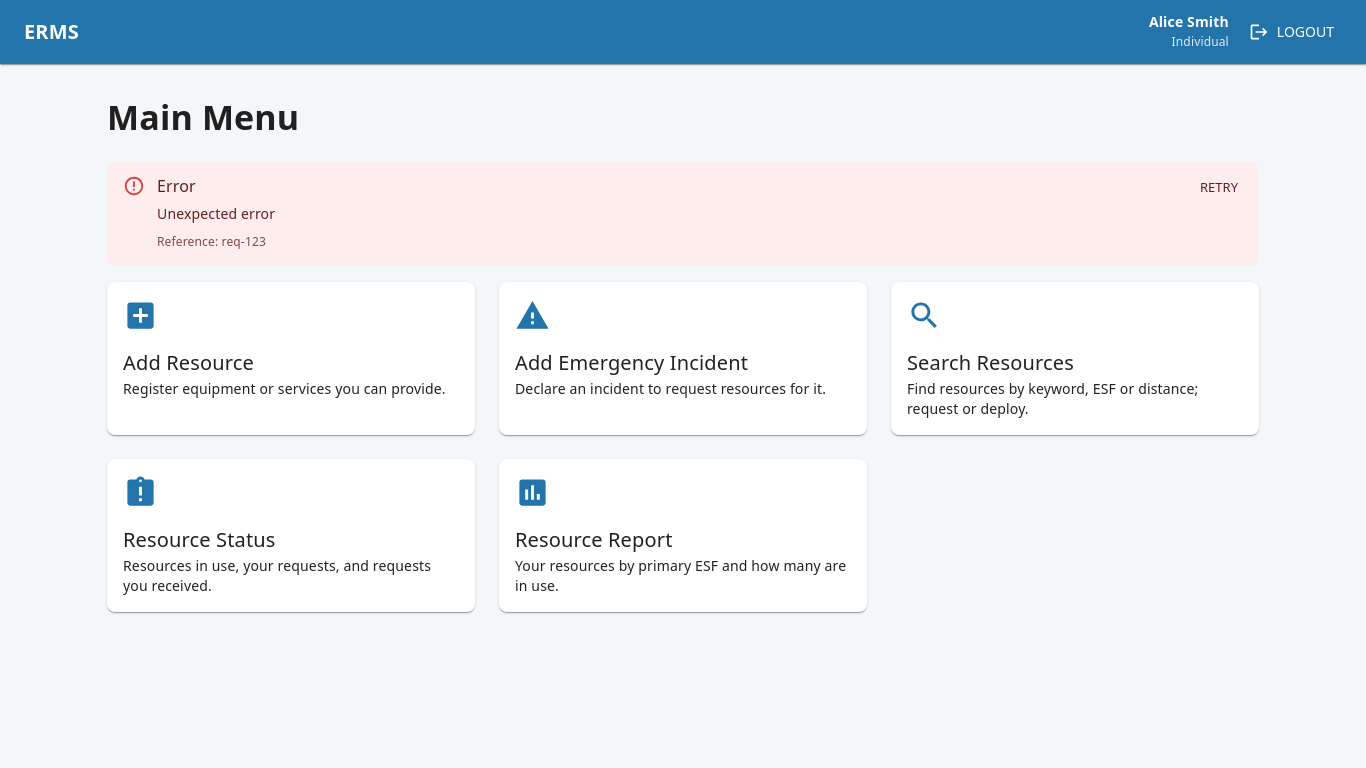
Test: MainMenuPage › shows an error with retry when the profile cannot be loaded
Expected: the message shows "Unexpected error", x1=157 y1=204 x2=275 y2=223
Click the button "Retry" at [1219, 187], box x1=1187 y1=172 x2=1251 y2=203
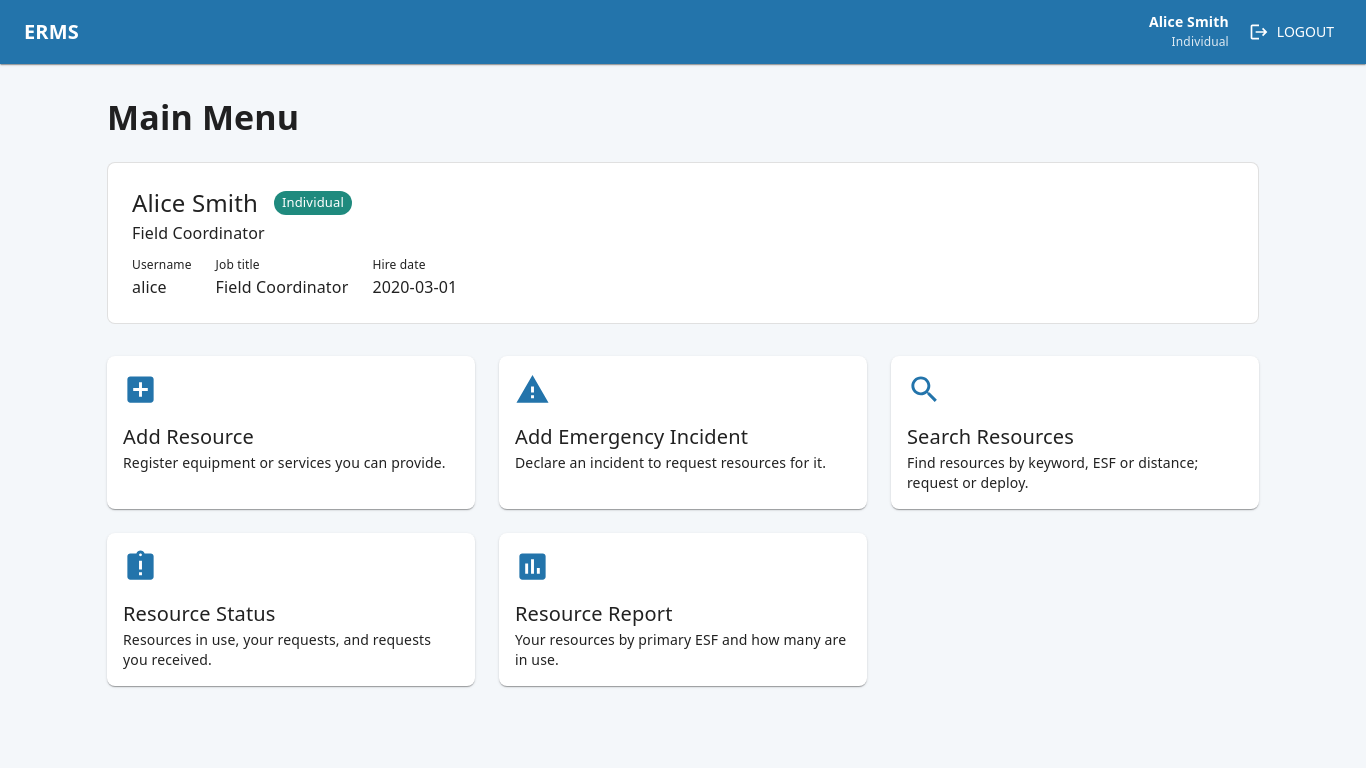
Expected: the heading "Alice Smith" is shown, x1=132 y1=187 x2=258 y2=219
